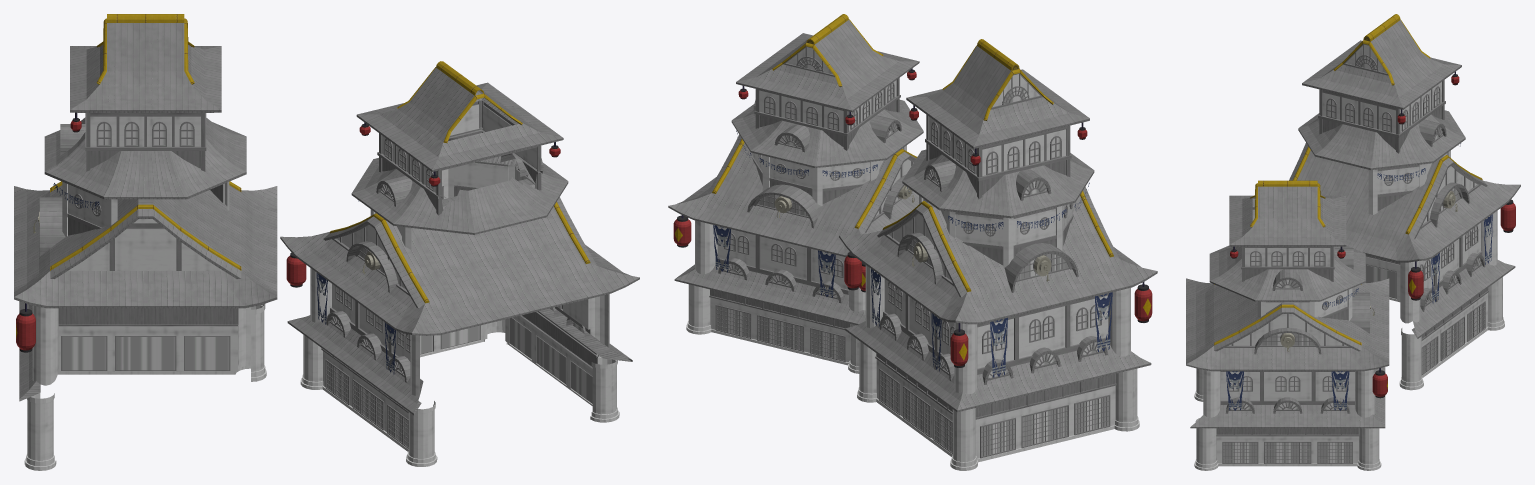
Rendered from konohavill_CommonBuilding_J_1.fbx.
3 renders of one model, left to right at view 1: azimuth 30°, elevation 25°; view 2: azimuth 150°, elevation 25°; view 3: azimuth 270°, elevation 25°, orthographic. The views are drawn at different scales.
Visible parts, largest first — view 1: MERGED_SM_ENV_KNVLLG_CommonBuilding_J_1.mo; view 2: MERGED_SM_ENV_KNVLLG_CommonBuilding_J_1.mo; view 3: MERGED_SM_ENV_KNVLLG_CommonBuilding_J_1.mo.
Part boxes in pixels (x1,y1,x2,y2): MERGED_SM_ENV_KNVLLG_CommonBuilding_J_1.mo: (14,14,639,470); MERGED_SM_ENV_KNVLLG_CommonBuilding_J_1.mo: (668,14,1157,470); MERGED_SM_ENV_KNVLLG_CommonBuilding_J_1.mo: (1186,14,1520,470).
Size of the model in its own units: 5737 by 4250 by 4116.
